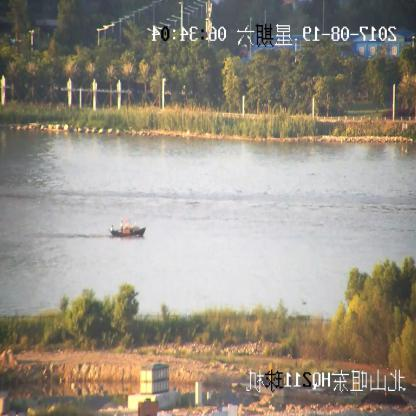Fishing Boat: (110, 218, 146, 238)
